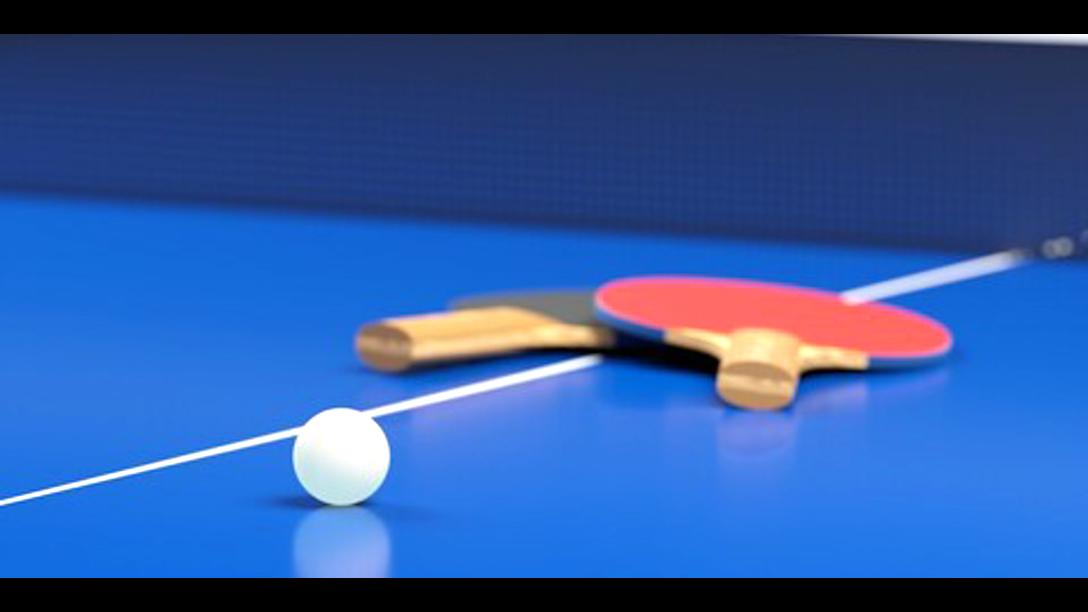Table-Tennis-Ball: (296, 409, 390, 504)
